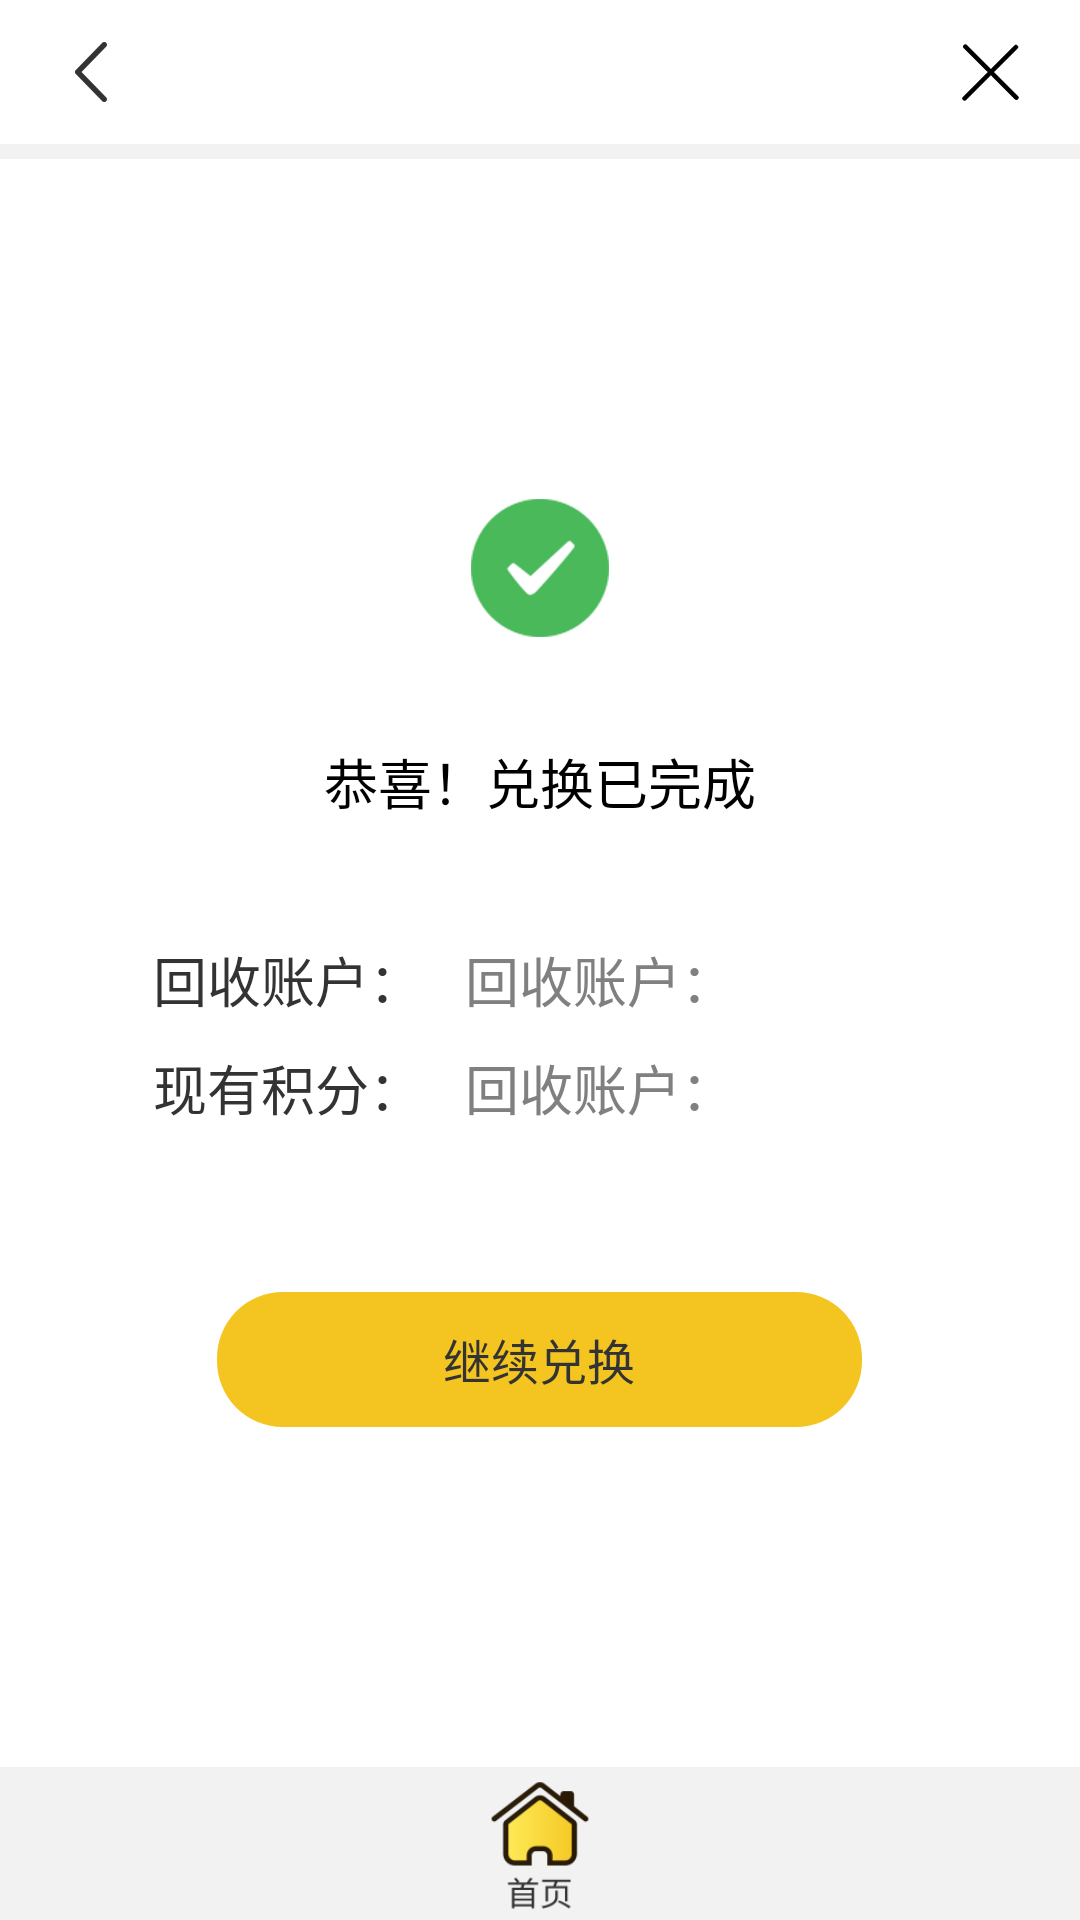

Named icons in this screenshot (1080 × 1920) and their centers, point (x, y):
上一步: point (91, 72)
